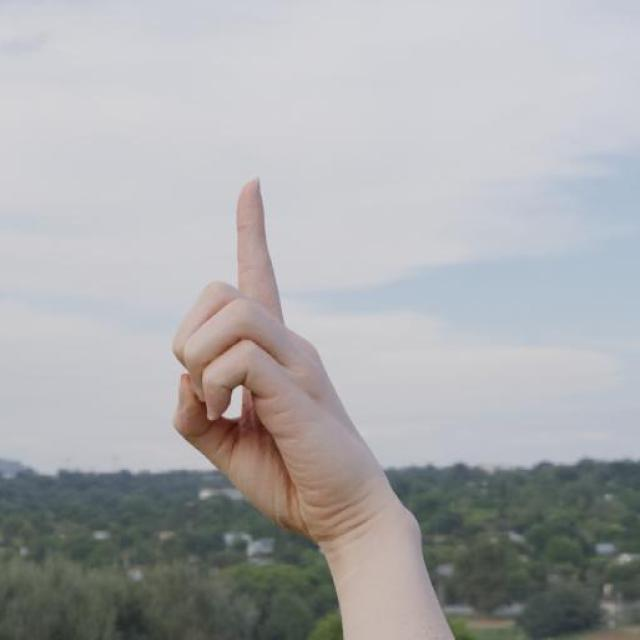D: (166, 174, 412, 540)
